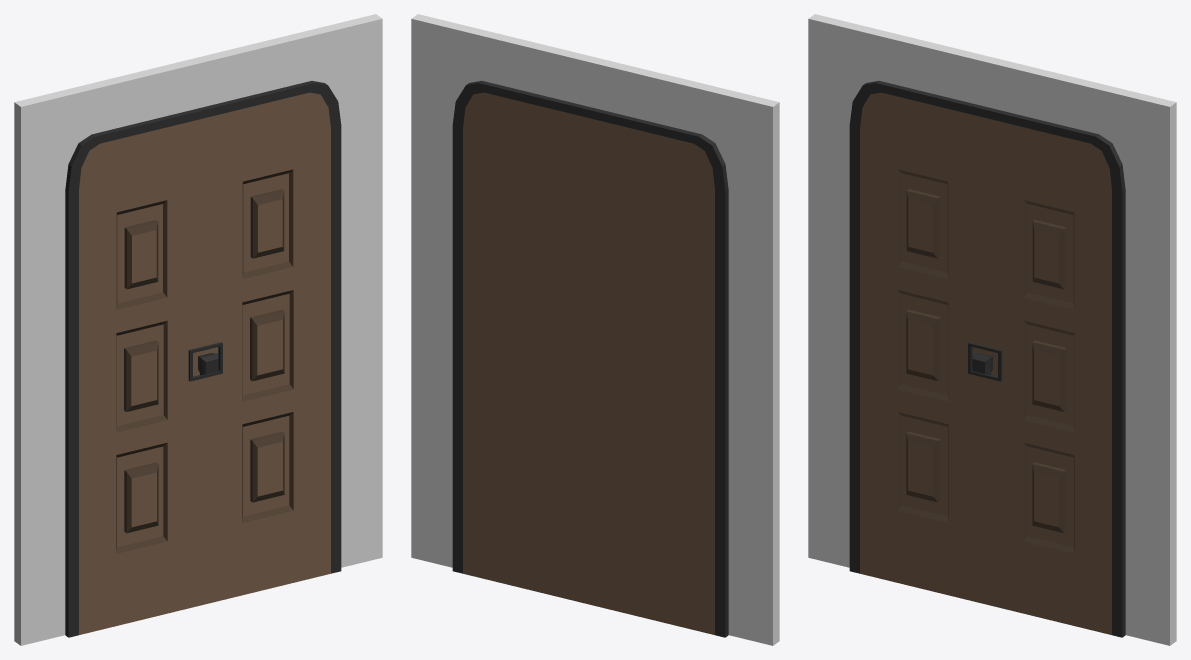
File: Porta_2__Muro_PIECES_.fbx
3 renders of one model, left to right at view 1: azimuth 30°, elevation 25°; view 2: azimuth 150°, elevation 25°; view 3: azimuth 330°, elevation 25°, orthographic.
Parts seen in each view (by area): view 1: Cube.035, Door Piece 26, Door Piece 29, Door Piece 31, Door Piece 5, Door Piece 10, Door Piece 28, Door Piece 30, Door Piece 1, Door Piece 27, Door Piece 3, Door Piece 4 (+12 smaller); view 2: Cube.035, Door Piece 13, Door Piece 14, Door Piece 15, Door Piece 6, Door Piece 12, Door Piece 16, Door Piece 8, Door Piece 11, Door Piece 17, Door Piece 3, Door Piece 4 (+12 smaller); view 3: Cube.035, Door Piece 1, Door Piece 26, Door Piece 30, Door Piece 5, Door Piece 10, Door Piece 27, Door Piece 29, Door Piece 28, Door Piece 31, Door Piece 4, Door Piece 3 (+12 smaller).
Part boxes in pixels (x1=…): Cube.035: x1=14, y1=14, x2=382, y2=645; Door Piece 26: x1=173, y1=414, x2=236, y2=551; Door Piece 29: x1=236, y1=277, x2=299, y2=414; Door Piece 31: x1=236, y1=156, x2=299, y2=292; Door Piece 5: x1=173, y1=171, x2=236, y2=307; Door Piece 10: x1=173, y1=293, x2=236, y2=429; Door Piece 28: x1=236, y1=399, x2=299, y2=535; Door Piece 30: x1=110, y1=308, x2=173, y2=444; Door Piece 1: x1=110, y1=187, x2=173, y2=323; Door Piece 27: x1=110, y1=430, x2=173, y2=566; Door Piece 3: x1=65, y1=115, x2=173, y2=211; Door Piece 4: x1=235, y1=81, x2=341, y2=170; Cube.035: x1=411, y1=14, x2=779, y2=645; Door Piece 13: x1=494, y1=156, x2=557, y2=292; Door Piece 14: x1=494, y1=277, x2=557, y2=414; Door Piece 15: x1=557, y1=414, x2=620, y2=551; Door Piece 6: x1=557, y1=171, x2=620, y2=307; Door Piece 12: x1=620, y1=308, x2=683, y2=444; Door Piece 16: x1=494, y1=399, x2=557, y2=535; Door Piece 8: x1=557, y1=293, x2=620, y2=429; Door Piece 11: x1=620, y1=187, x2=683, y2=323; Door Piece 17: x1=620, y1=430, x2=683, y2=566; Door Piece 3: x1=620, y1=115, x2=728, y2=211; Door Piece 4: x1=452, y1=81, x2=558, y2=170; Cube.035: x1=808, y1=14, x2=1176, y2=645; Door Piece 1: x1=891, y1=156, x2=954, y2=292; Door Piece 26: x1=954, y1=414, x2=1017, y2=551; Door Piece 30: x1=891, y1=277, x2=954, y2=414; Door Piece 5: x1=954, y1=171, x2=1017, y2=307; Door Piece 10: x1=954, y1=293, x2=1017, y2=429; Door Piece 27: x1=891, y1=399, x2=954, y2=535; Door Piece 29: x1=1017, y1=308, x2=1080, y2=444; Door Piece 28: x1=1017, y1=430, x2=1080, y2=566; Door Piece 31: x1=1017, y1=187, x2=1080, y2=323; Door Piece 4: x1=1017, y1=115, x2=1125, y2=211; Door Piece 3: x1=849, y1=81, x2=955, y2=170.
Size of the model in its own units: 397 by 566 by 38.41.
